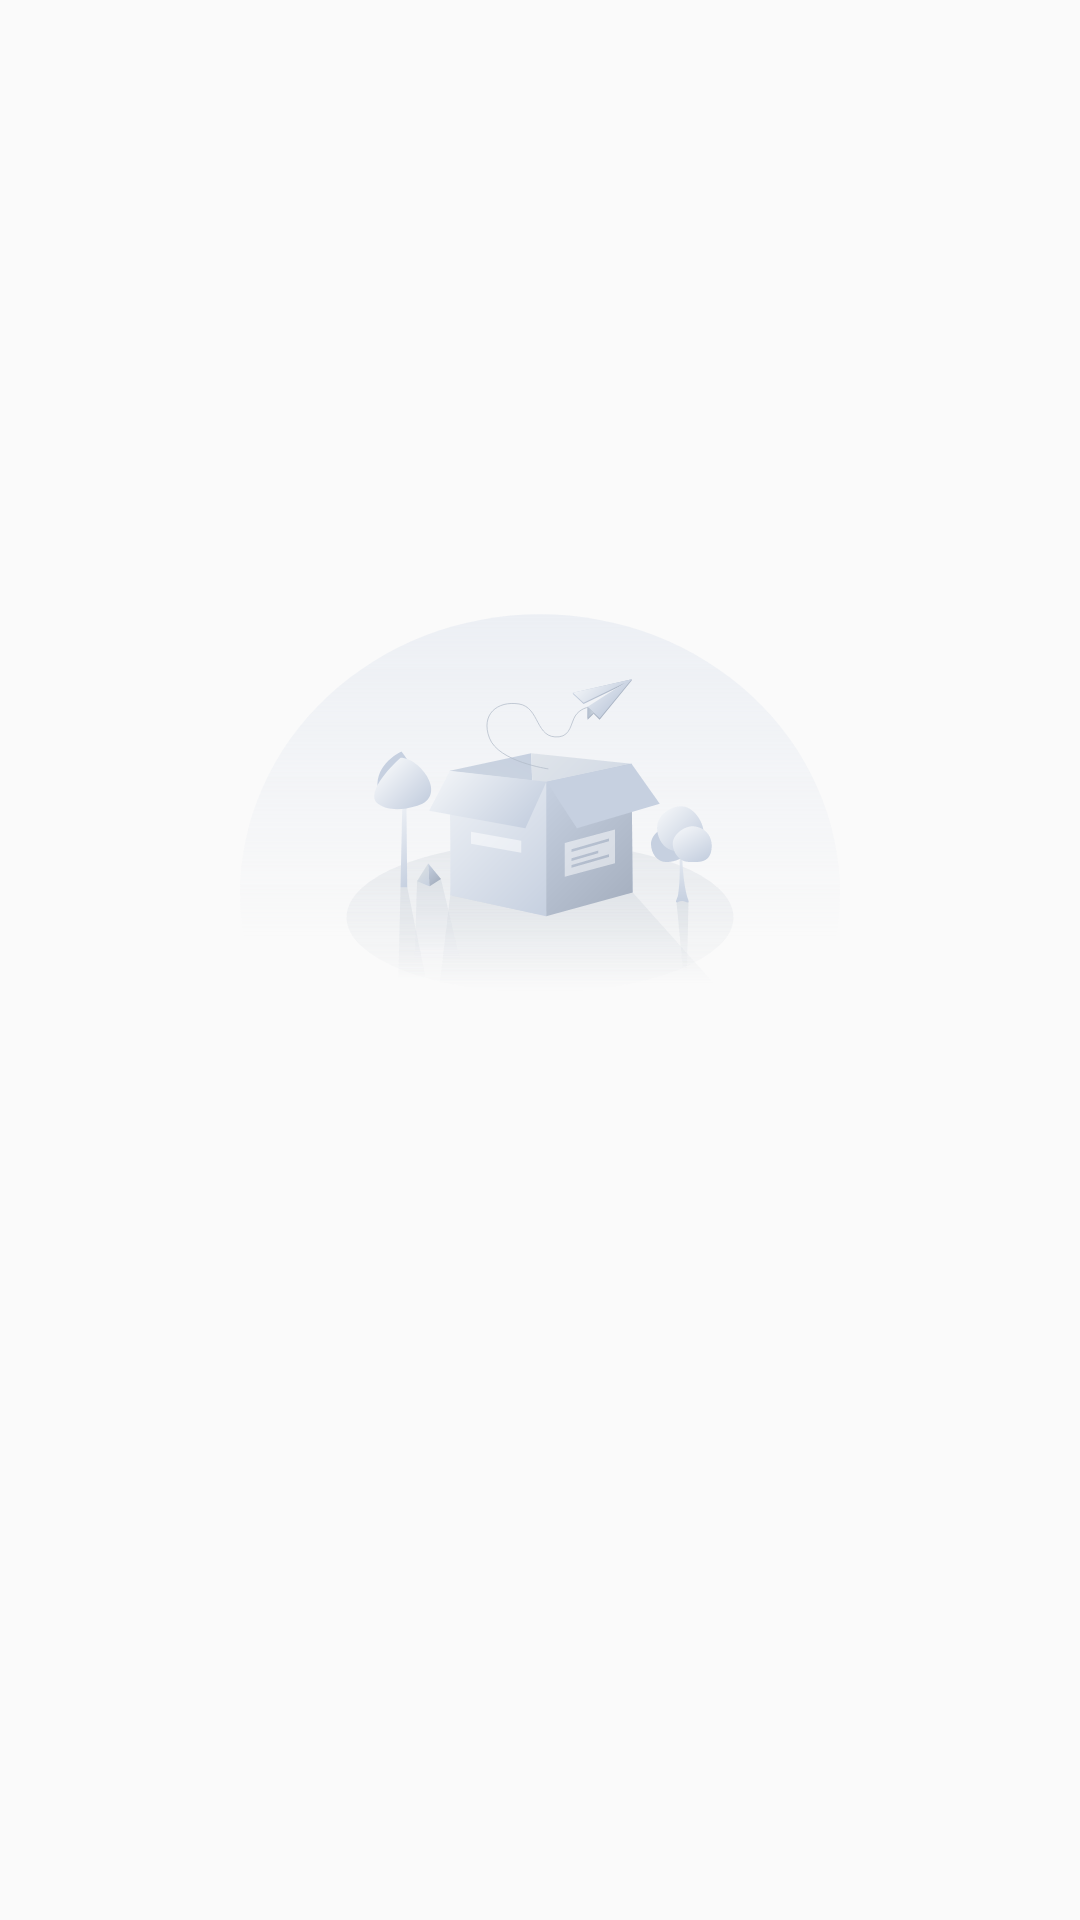

Named icons in this screenshot (1080 × 1920) and their centers, (x=x, y=y):
no data: (x=544, y=800)
